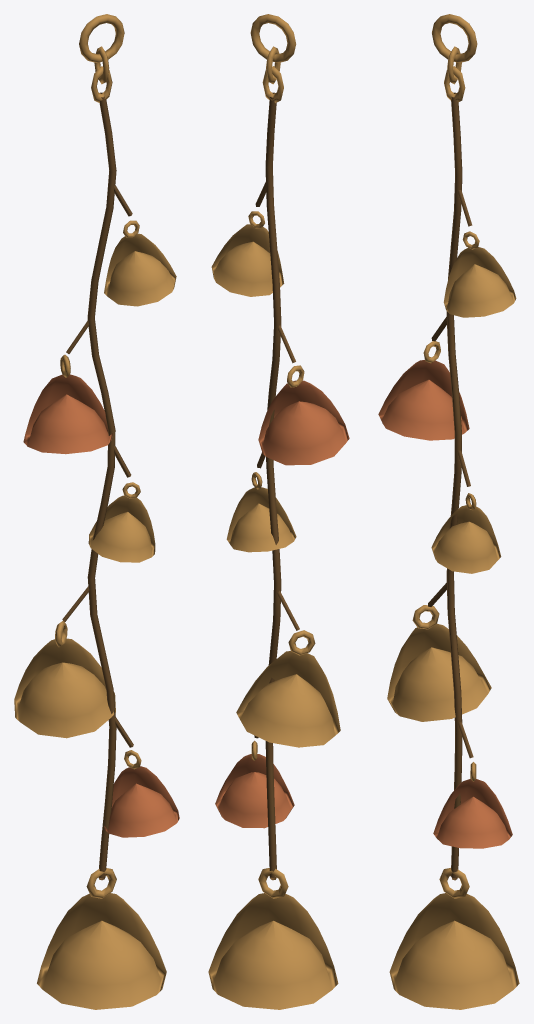
The model's file is prop-bells.glb.
3 views of the same model, side by side, from view 1: azimuth 30°, elevation 25°; view 2: azimuth 150°, elevation 25°; view 3: azimuth 330°, elevation 25° (orthographic).
Visible parts, largest first — view 1: piece_Brass, piece_Copper, piece_BrassDark; view 2: piece_Brass, piece_Copper, piece_BrassDark; view 3: piece_Brass, piece_Copper, piece_BrassDark.
Boxes of the visible parts, <box> form: piece_Brass: <box>14,14,176,1009</box>; piece_Copper: <box>23,374,179,837</box>; piece_BrassDark: <box>62,92,133,880</box>; piece_Brass: <box>208,14,340,1009</box>; piece_Copper: <box>215,380,349,828</box>; piece_BrassDark: <box>254,92,299,880</box>; piece_Brass: <box>387,14,519,1009</box>; piece_Copper: <box>378,359,512,848</box>; piece_BrassDark: <box>428,92,473,880</box>.
Bounding box in the file's own units: 0.0715 × 0.4995 × 0.0649.
